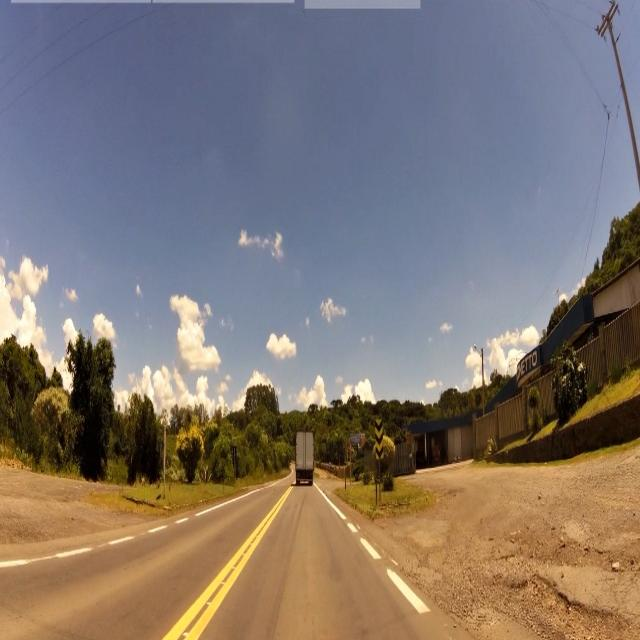MP: (375, 420, 385, 460)
